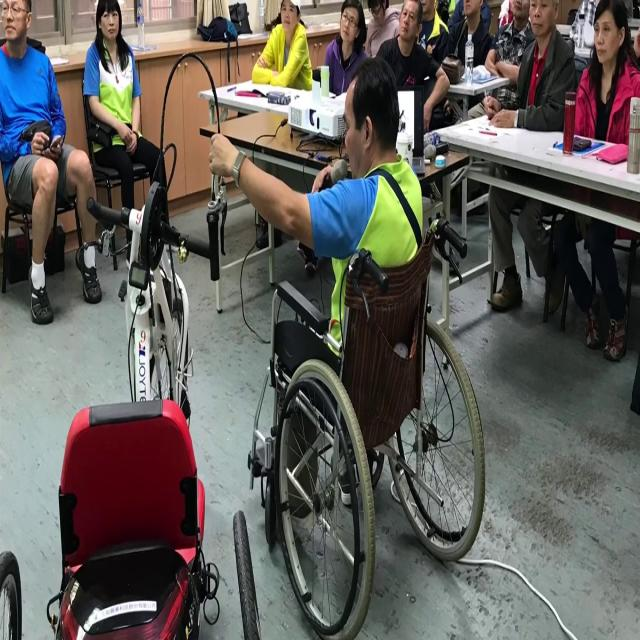wheelchairs: (243, 208, 496, 640)
